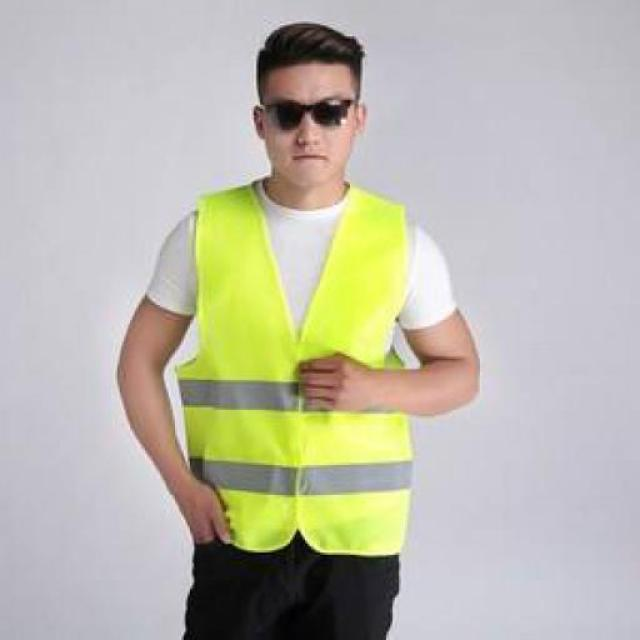vest: (180, 182, 421, 558)
